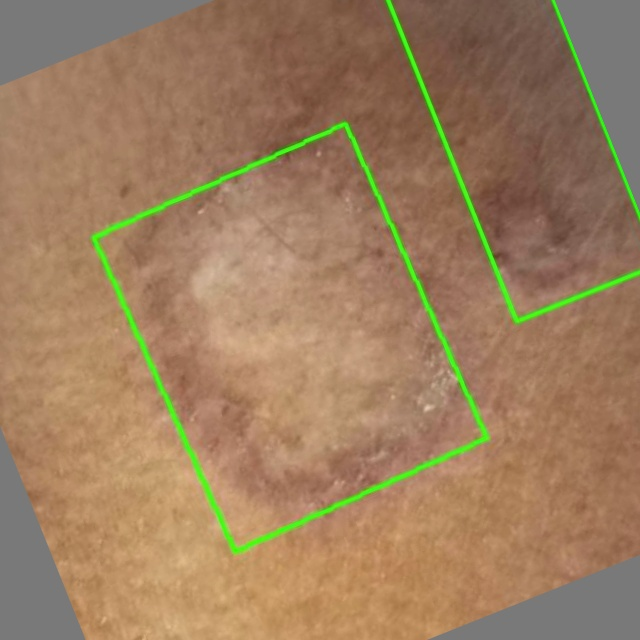Tinea Corporis: (94, 123, 487, 550), (388, 0, 639, 321)
